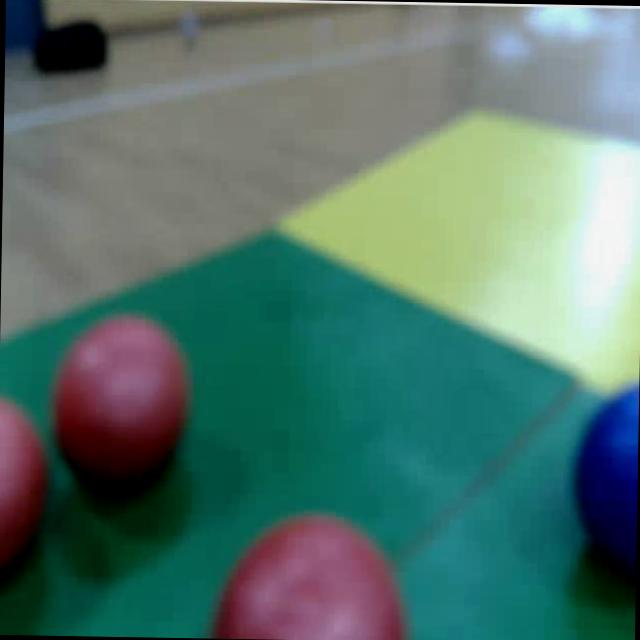blue_ball: (572, 382, 638, 593)
red_ball: (51, 315, 194, 507), (206, 512, 417, 640), (0, 393, 54, 583)
